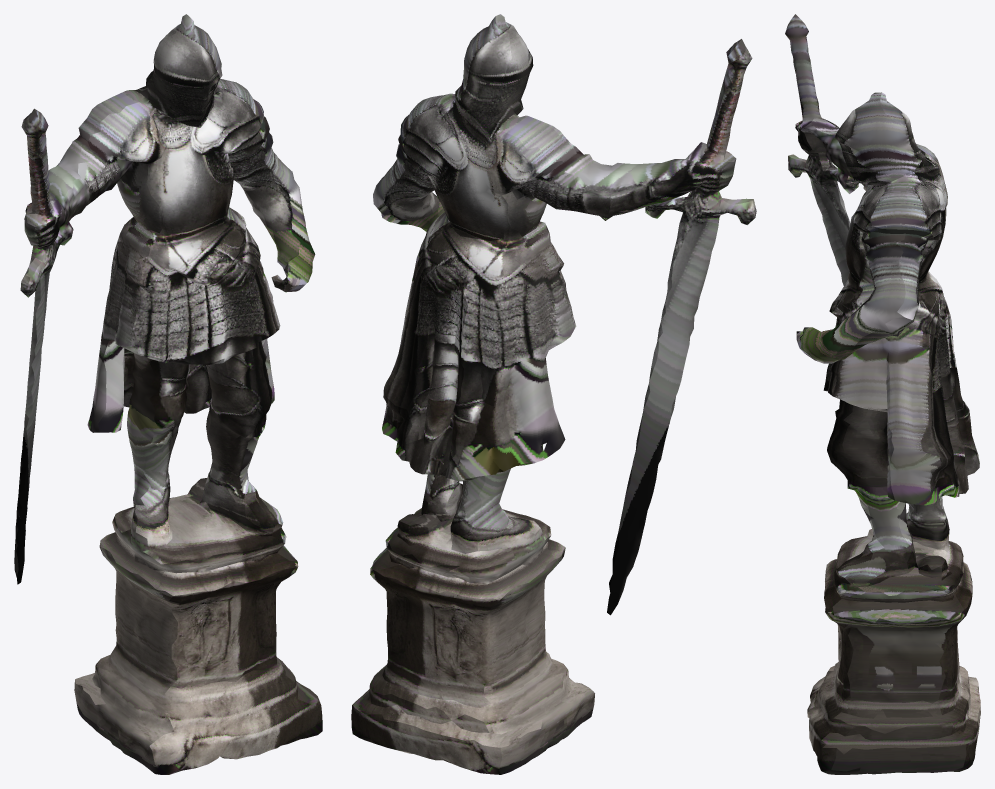
The model's file is saint_statue.glb.
3 renders of one model, left to right at view 1: azimuth 30°, elevation 25°; view 2: azimuth 150°, elevation 25°; view 3: azimuth 270°, elevation 25°, orthographic. The views are drawn at different scales.
Visible parts, largest first — view 1: geometry_0; view 2: geometry_0; view 3: geometry_0.
Boxes of the visible parts, <box> form: geometry_0: <box>14,14,322,774</box>; geometry_0: <box>351,14,756,774</box>; geometry_0: <box>785,14,980,774</box>.
Size of the model in its own units: 1.52 by 3.2 by 0.889.
1 material, 1 textured.
